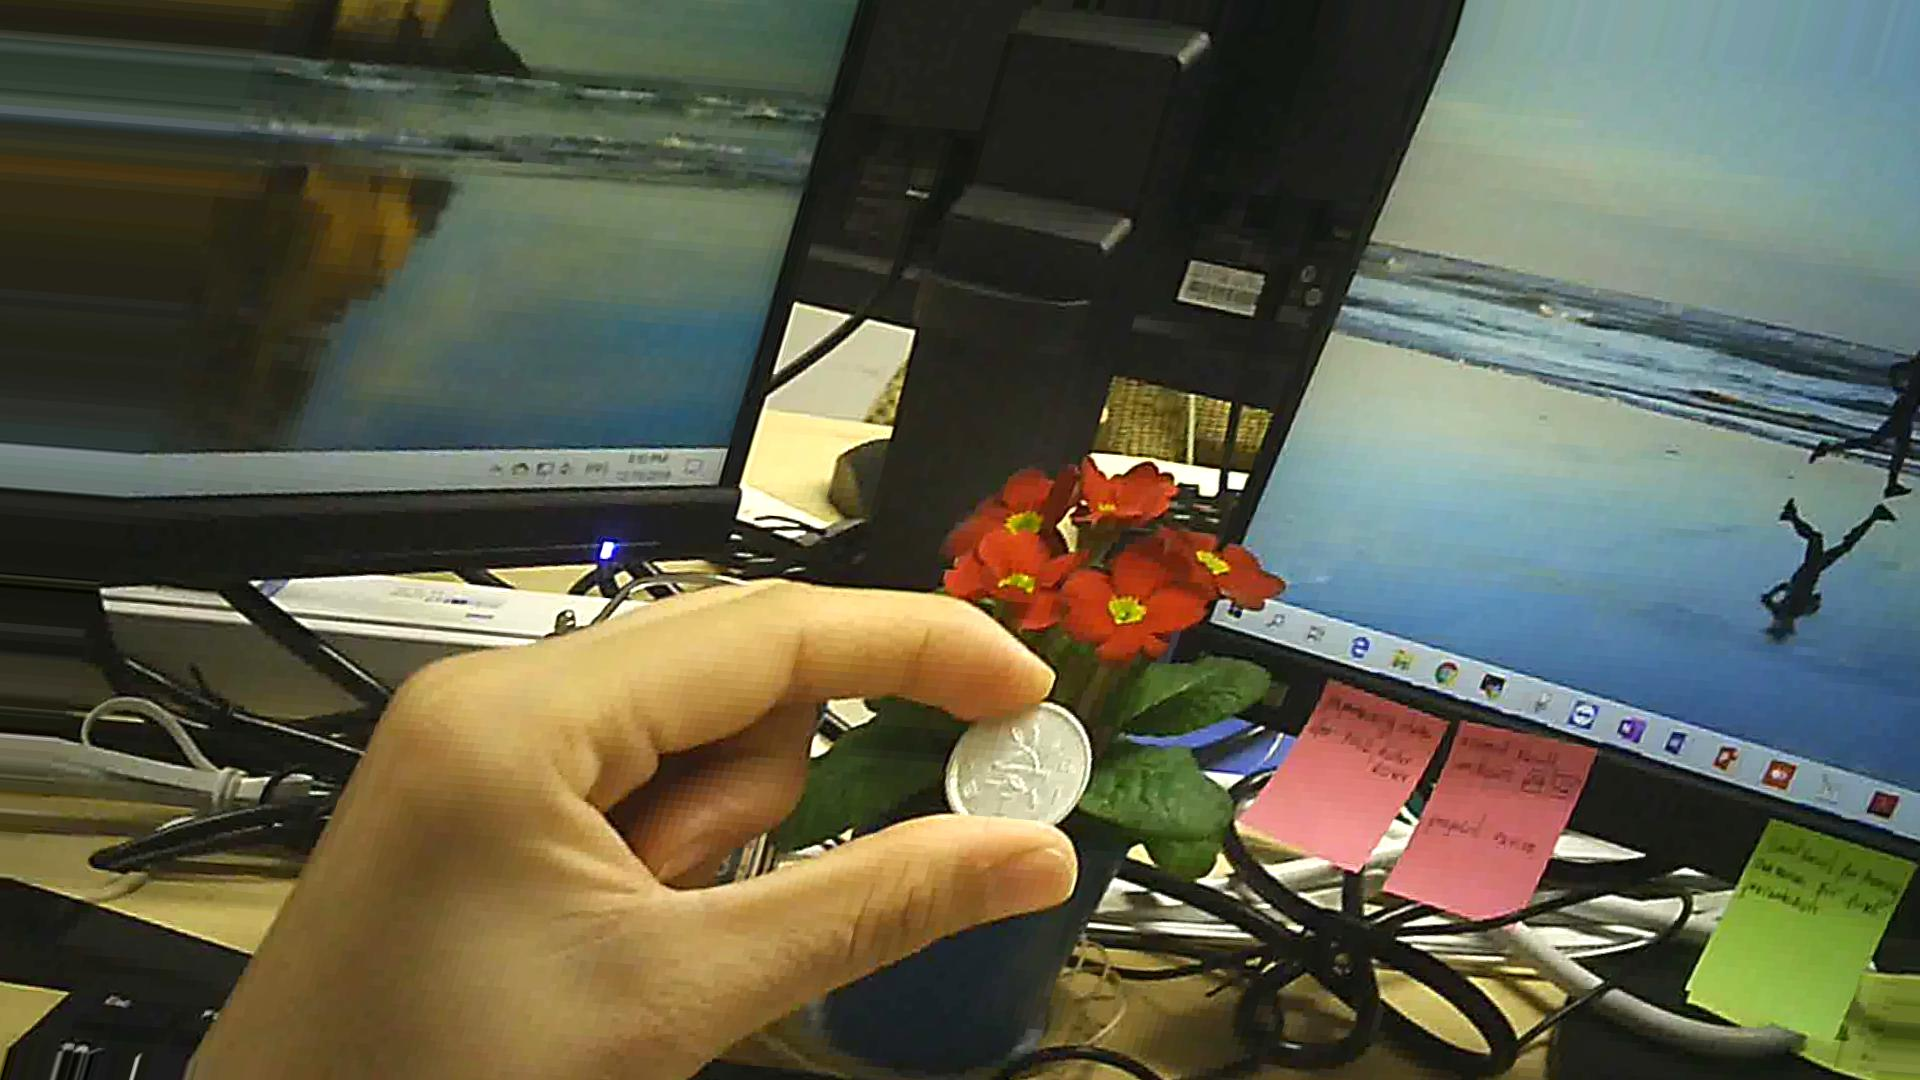1 Yen: (940, 683, 1106, 847)
